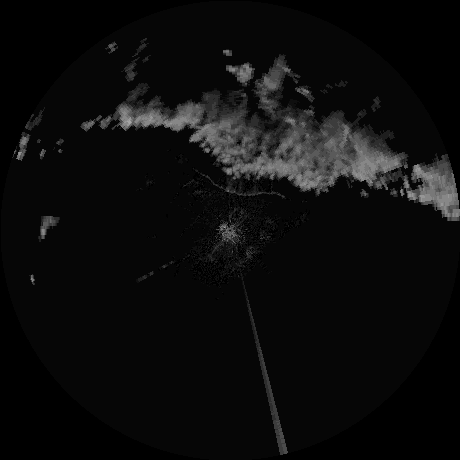frontgust: (202, 173, 286, 199)
